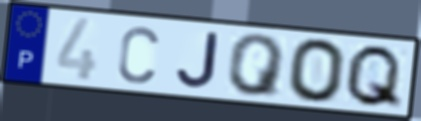4: (54, 16, 101, 83)
C: (115, 23, 161, 86)
J: (174, 31, 221, 91)
O: (287, 36, 349, 105)
Q: (341, 42, 405, 111), (227, 33, 289, 99)
